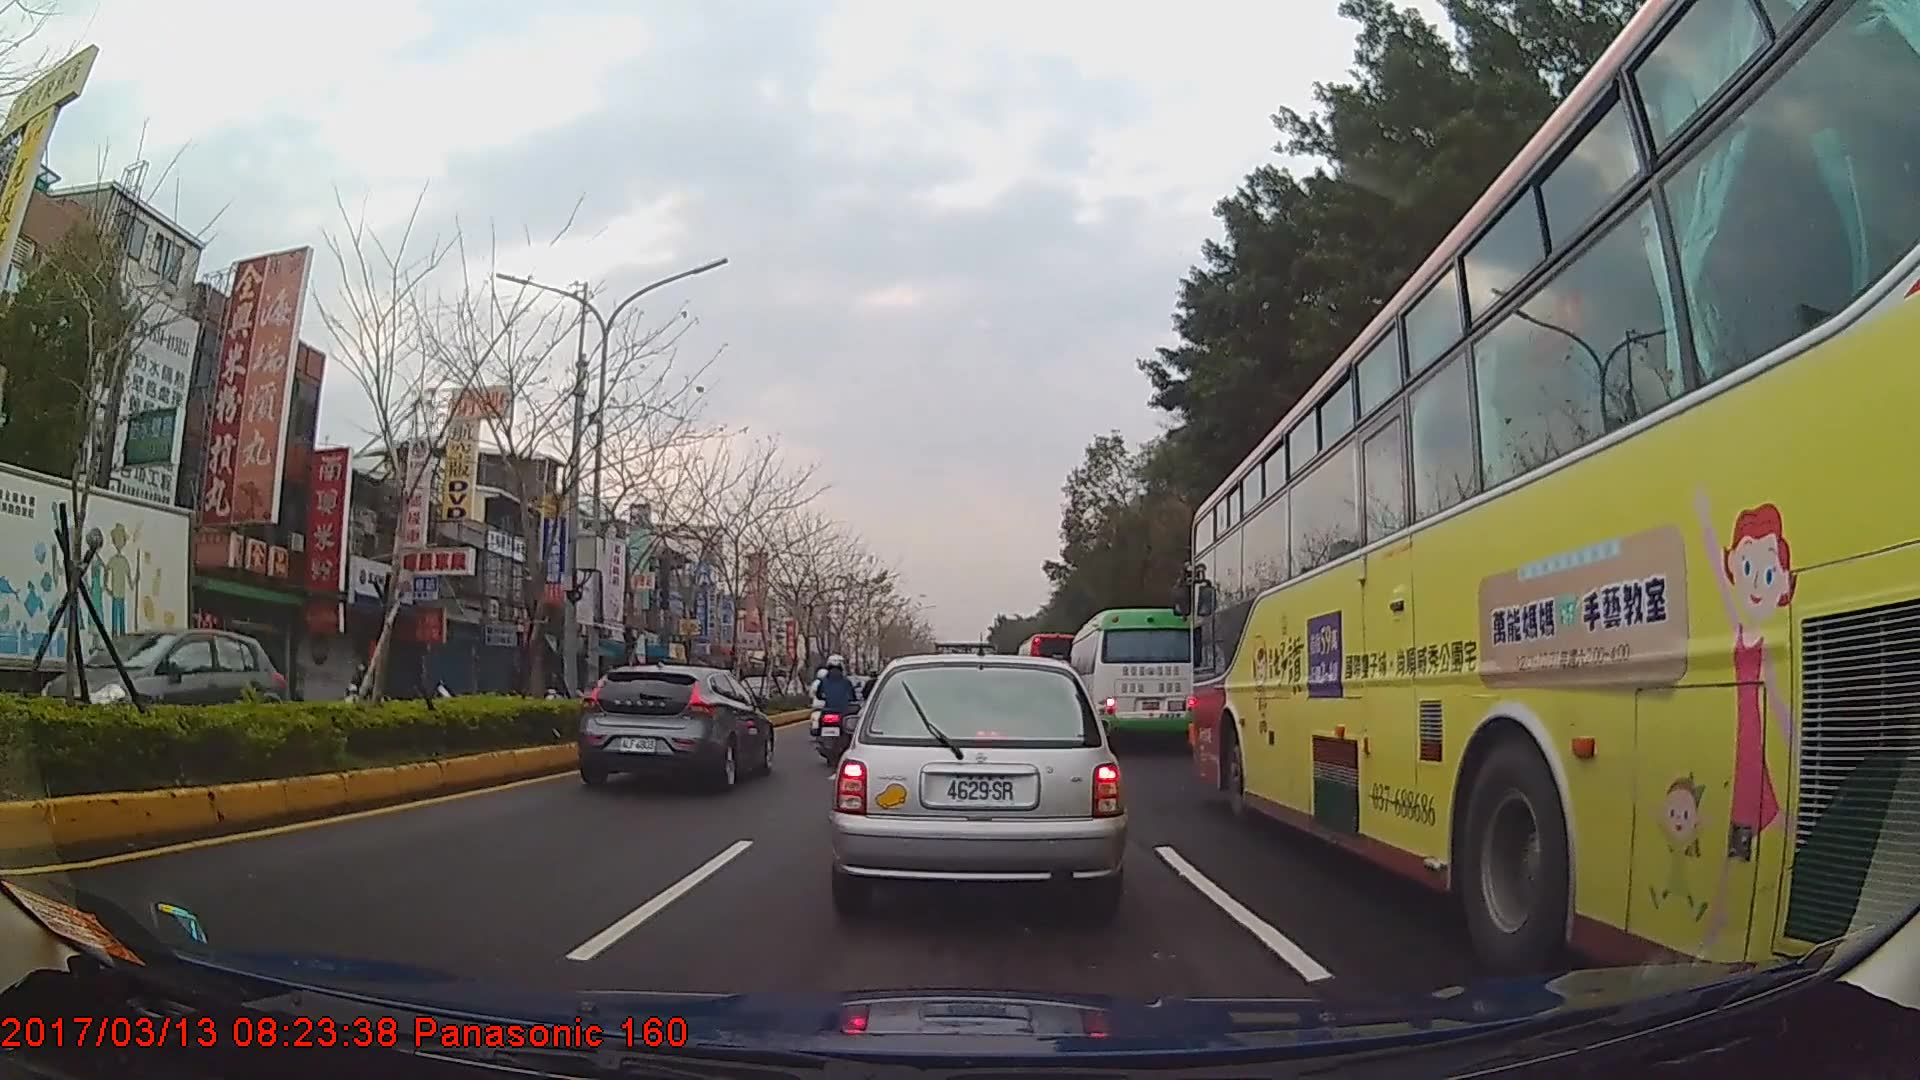rider: (814, 654, 860, 752), (343, 660, 378, 703)
vehicle: (1183, 0, 1920, 1031), (830, 649, 1125, 921), (0, 460, 195, 737), (36, 626, 283, 752), (575, 662, 777, 794), (1066, 607, 1198, 750), (1014, 630, 1083, 706)
